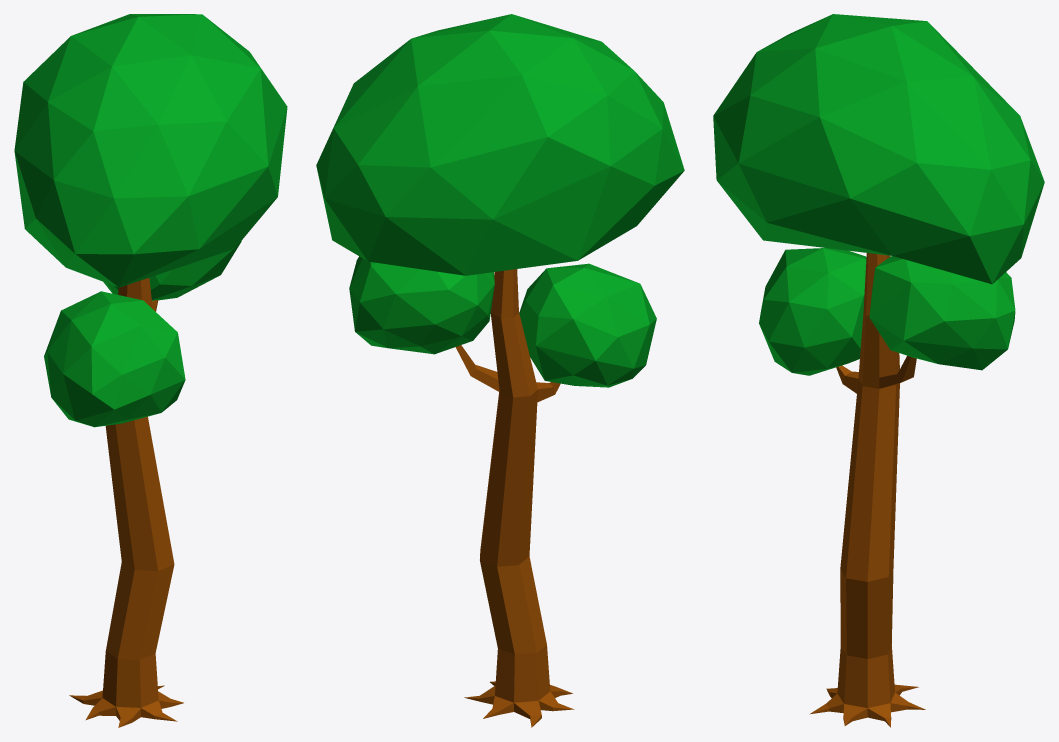
Rendered from treeb1.glb.
The picture shows the model from 3 angles, left to right: view 1: azimuth 30°, elevation 25°; view 2: azimuth 150°, elevation 25°; view 3: azimuth 270°, elevation 25°; orthographic projection. The views are drawn at different scales.
Parts seen in each view (by area): view 1: Icosphere.007, Cylinder.020, Icosphere.009, Icosphere.008; view 2: Icosphere.007, Cylinder.020, Icosphere.009, Icosphere.008; view 3: Icosphere.007, Cylinder.020, Icosphere.008, Icosphere.009.
Boxes of the visible parts, x1,y1,x2,y2 form: Icosphere.007: (14, 14, 287, 287); Cylinder.020: (69, 278, 183, 727); Icosphere.009: (44, 291, 185, 427); Icosphere.008: (103, 241, 241, 300); Icosphere.007: (316, 14, 684, 275); Cylinder.020: (455, 269, 574, 727); Icosphere.009: (519, 263, 656, 387); Icosphere.008: (349, 256, 494, 354); Icosphere.007: (713, 14, 1044, 284); Cylinder.020: (809, 253, 925, 727); Icosphere.008: (869, 256, 1015, 370); Icosphere.009: (759, 248, 866, 375).
Size of the model in its own units: 4.33 by 10.36 by 4.52.
